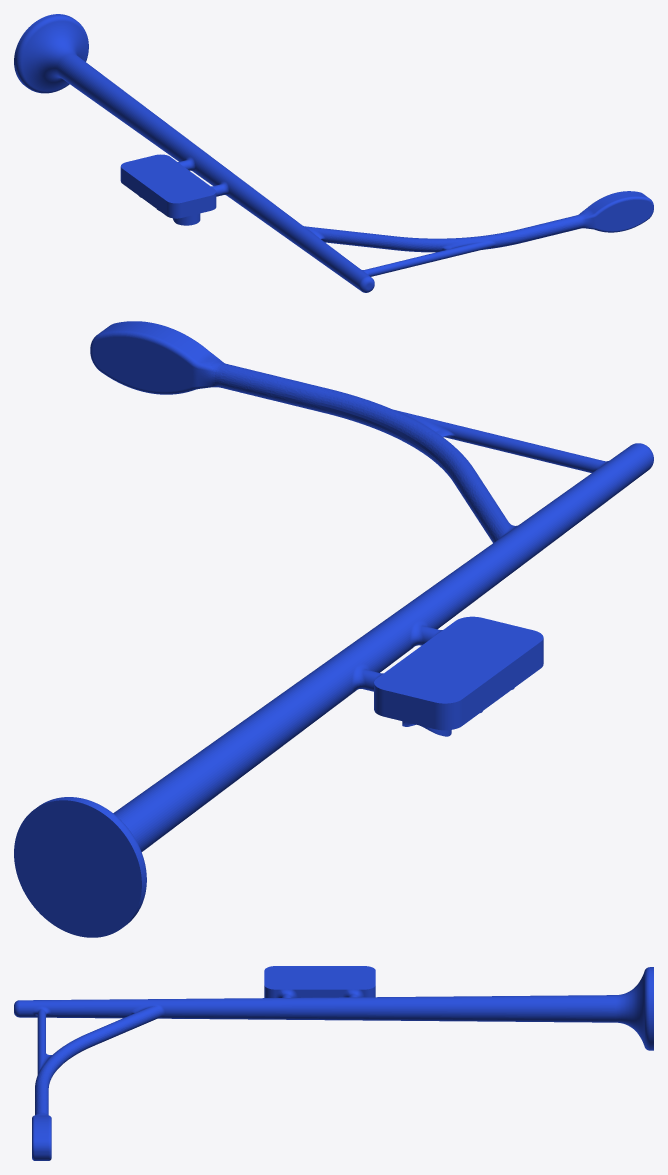
The model's file is poste.glb.
3 views of the same model, one above another, from view 1: azimuth 30°, elevation 25°; view 2: azimuth 150°, elevation 25°; view 3: azimuth 270°, elevation 25° (orthographic). The views are drawn at different scales.
Parts seen in each view (by area): view 1: poste.glb; view 2: poste.glb; view 3: poste.glb.
Part boxes in pixels (box(x1,y1,x2,y2)): poste.glb: box(14, 14, 653, 292); poste.glb: box(14, 321, 653, 937); poste.glb: box(14, 966, 653, 1160).
Bounding box in the file's own units: 76.26 × 15 × 115.
